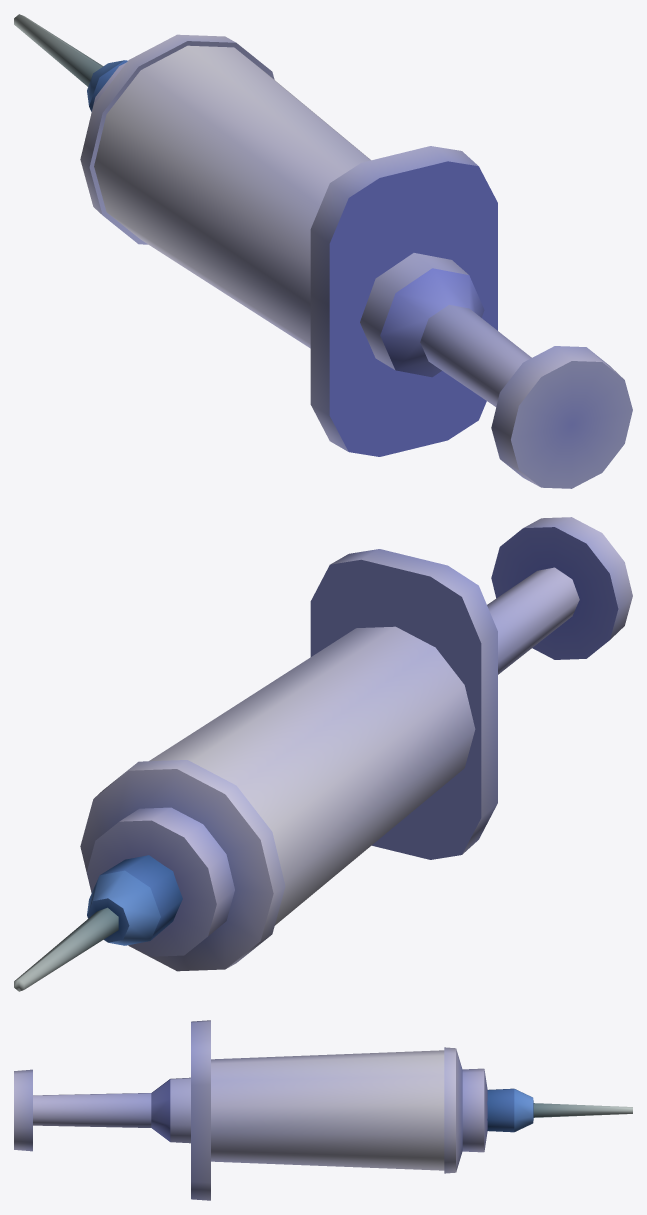
File: Melee_Bigsyringe.fbx
3 views of the same model, one above another, from view 1: azimuth 30°, elevation 25°; view 2: azimuth 150°, elevation 25°; view 3: azimuth 270°, elevation 25° (orthographic). The views are drawn at different scales.
Visible parts, largest first — view 1: Melee_Bigsyringe; view 2: Melee_Bigsyringe; view 3: Melee_Bigsyringe.
Part boxes in pixels (x1,y1,x2,y2): Melee_Bigsyringe: [14, 14, 632, 488]; Melee_Bigsyringe: [14, 517, 632, 991]; Melee_Bigsyringe: [14, 1020, 632, 1200].
Size of the model in its own units: 0.2411 by 0.3332 by 1.18.
